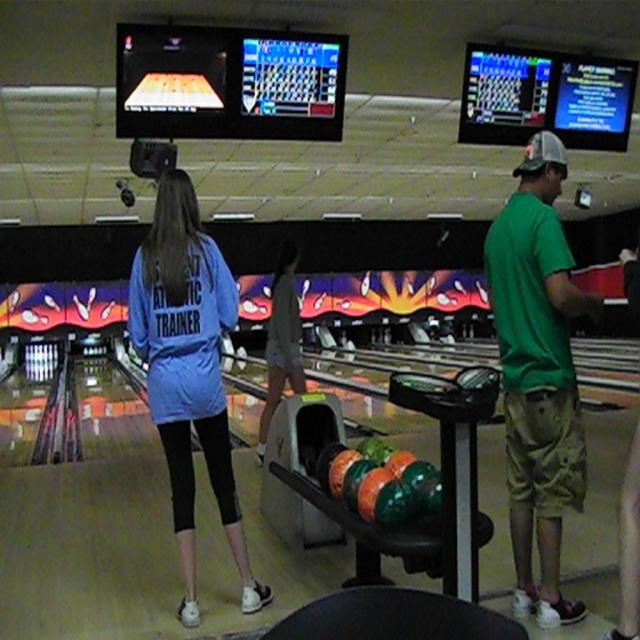Ball: (316, 438, 441, 529)
